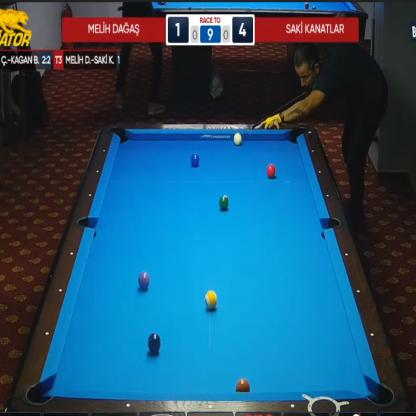Ball: (148, 332, 162, 353), (138, 271, 150, 291), (205, 290, 217, 310), (235, 378, 250, 392), (219, 194, 229, 210), (266, 164, 276, 178), (233, 133, 242, 146), (191, 153, 200, 166)
